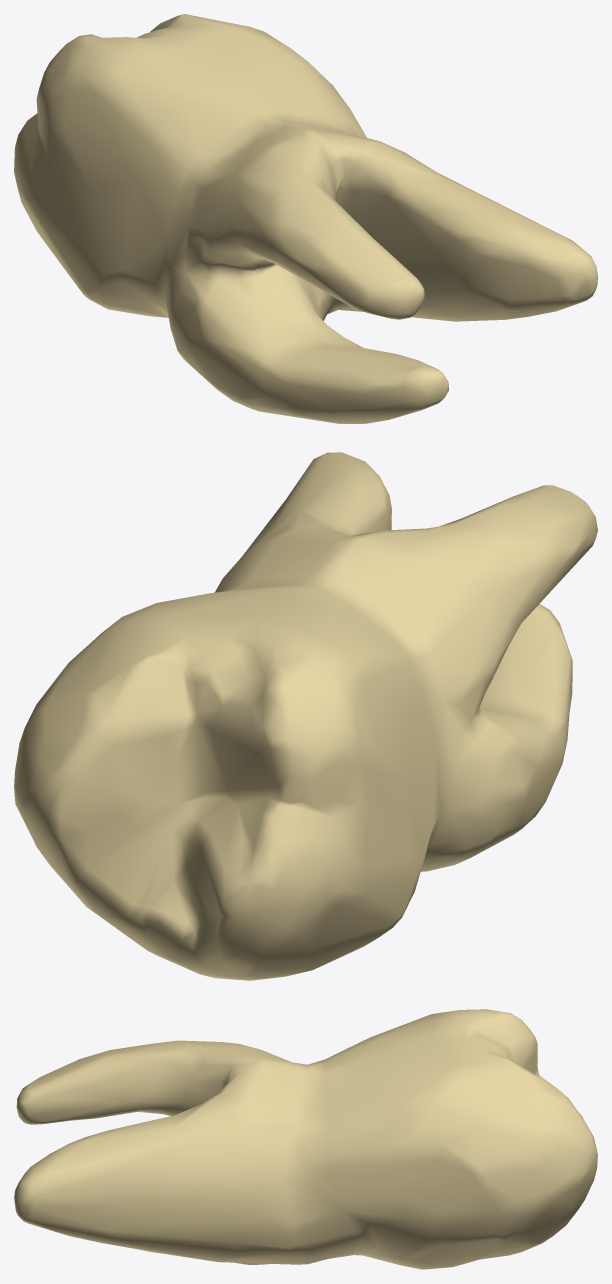
3 views of the same model, one above another, from view 1: azimuth 30°, elevation 25°; view 2: azimuth 150°, elevation 25°; view 3: azimuth 270°, elevation 25° (orthographic). The views are drawn at different scales.
Parts seen in each view (by area): view 1: 右侧上颌第二磨牙; view 2: 右侧上颌第二磨牙; view 3: 右侧上颌第二磨牙.
Part boxes in pixels (bbox=[...]): 右侧上颌第二磨牙: bbox=[14, 14, 597, 423]; 右侧上颌第二磨牙: bbox=[14, 452, 597, 980]; 右侧上颌第二磨牙: bbox=[14, 1009, 597, 1269].
Size of the model in its own units: 0.0172 by 0.0142 by 0.0326.
